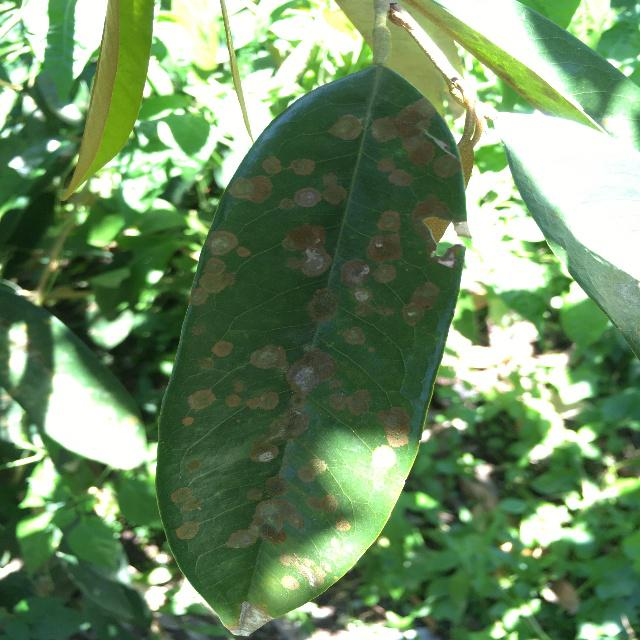Algal Leaf Spot: (153, 55, 474, 639)
